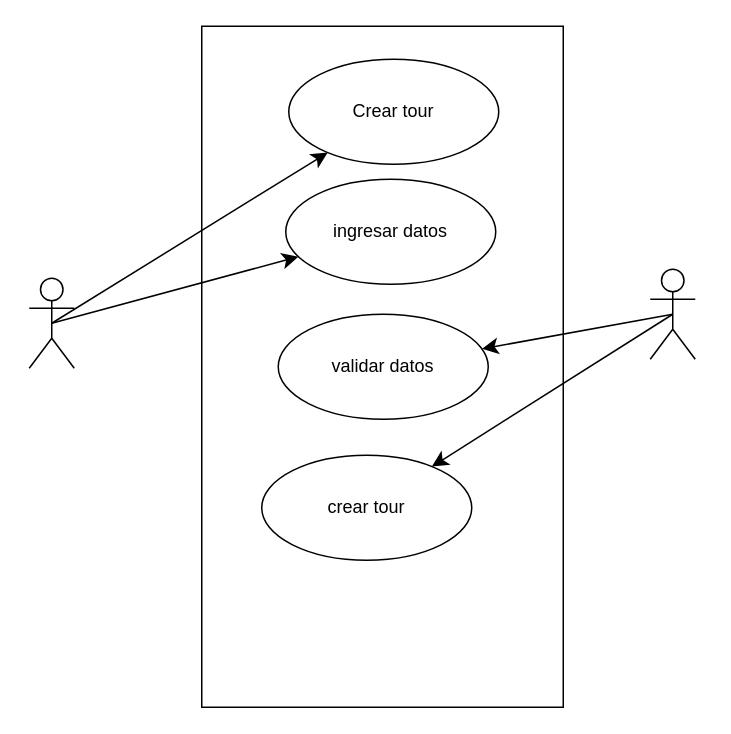
Image size: 731x734. Some labels were removed from this diagram. Each missing label, with the box of its shape:
Admin: (28, 277, 74, 368)
Sistema: (649, 268, 695, 359)
